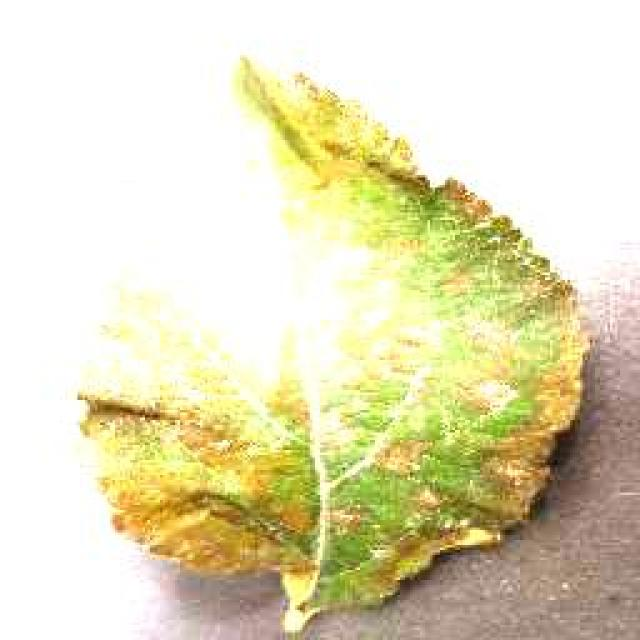apple scab disease: (73, 50, 595, 638)
